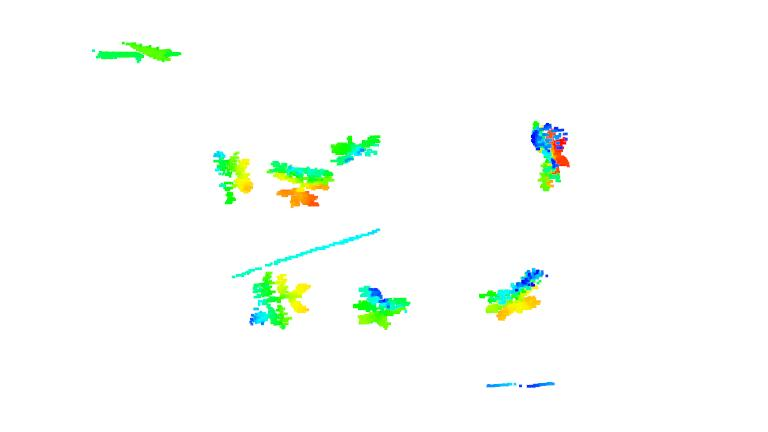chickpea: (476, 264, 551, 323), (243, 269, 310, 332), (526, 120, 571, 196), (267, 157, 334, 208), (350, 283, 409, 331), (212, 148, 257, 207), (330, 129, 385, 165)
